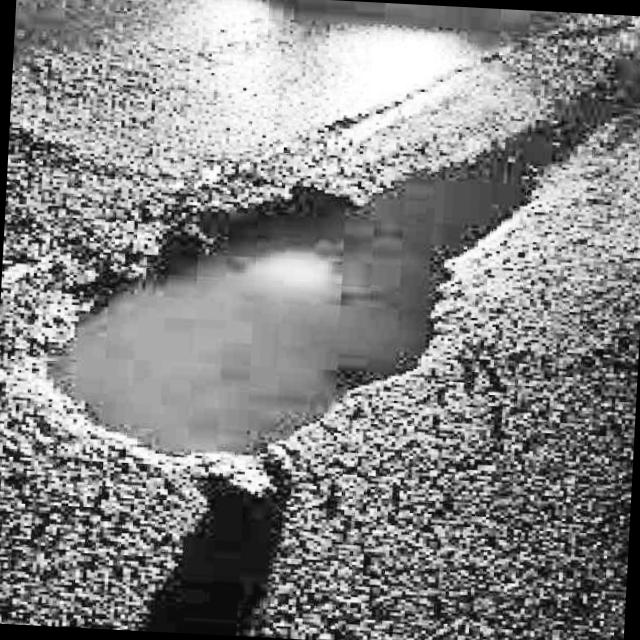Pothole: (46, 149, 488, 496)
